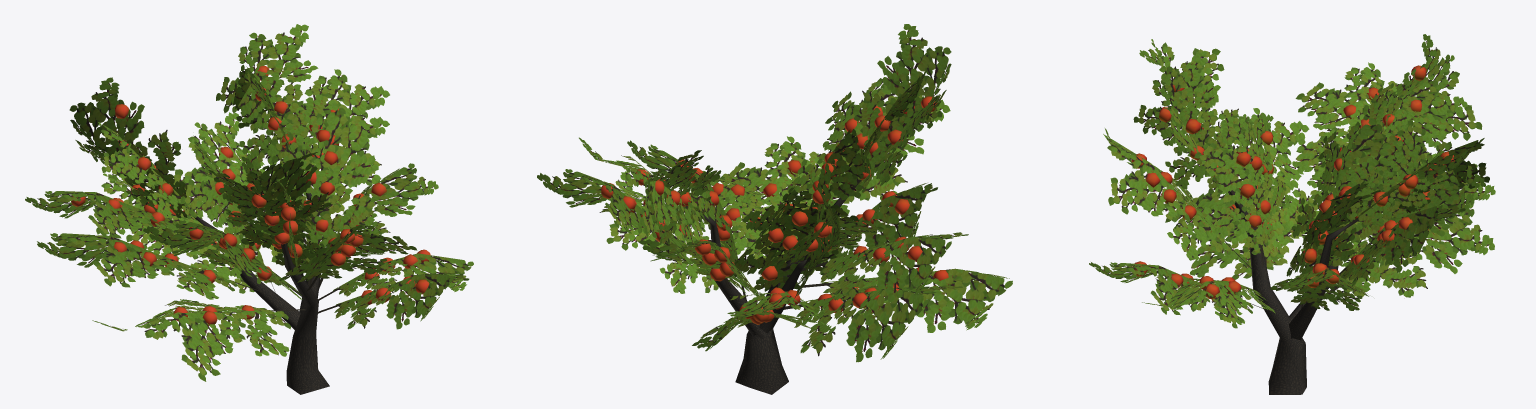
Rendered from Peach01.fbx.
3 views of the same model, side by side, from view 1: azimuth 30°, elevation 25°; view 2: azimuth 150°, elevation 25°; view 3: azimuth 270°, elevation 25° (orthographic). The views are drawn at different scales.
Visible parts, largest first — view 1: Peach01; view 2: Peach01; view 3: Peach01.
Part boxes in pixels (left/top/right/bottom): Peach01: left=25, top=24, right=473, bottom=394; Peach01: left=537, top=24, right=1012, bottom=394; Peach01: left=1089, top=34, right=1495, bottom=394.
Bounding box in the file's own units: 722 × 552 × 710.
